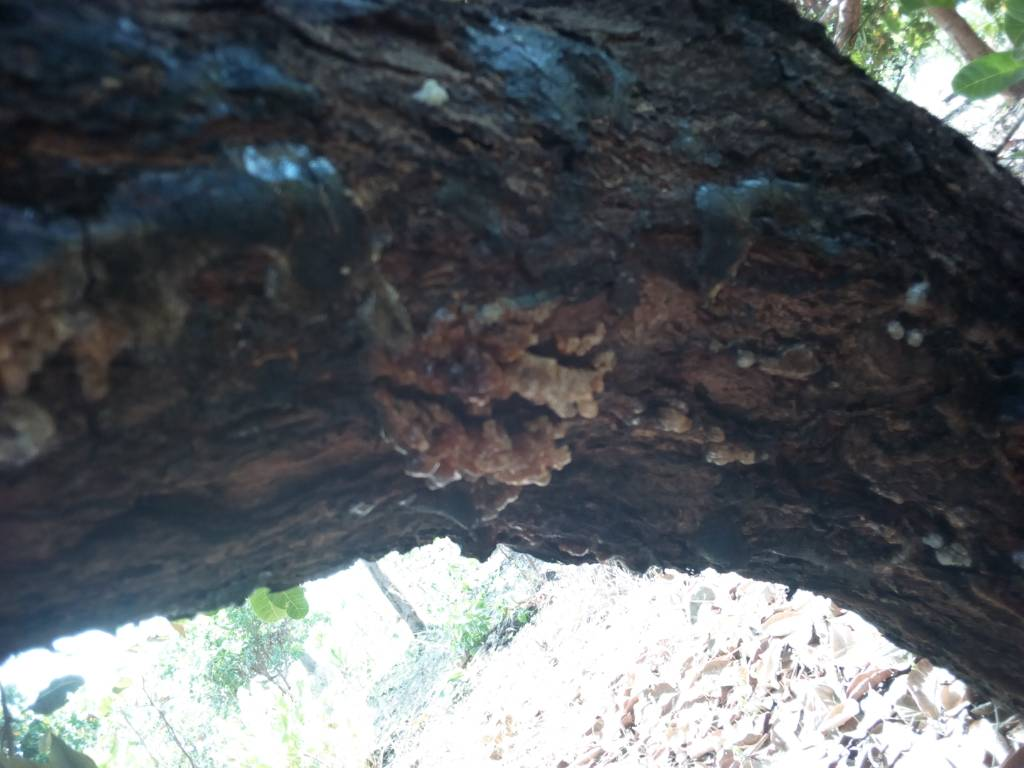Gommose: (8, 54, 1018, 590)
